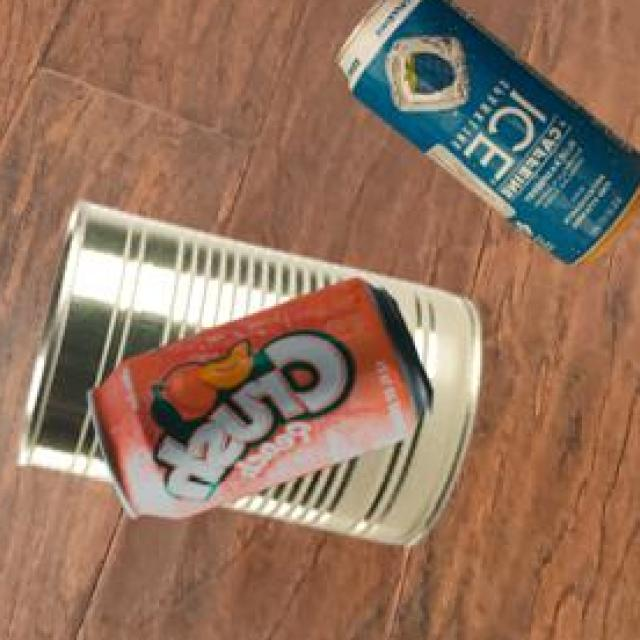logam: (22, 198, 483, 544), (93, 275, 437, 516), (340, 0, 640, 261)
